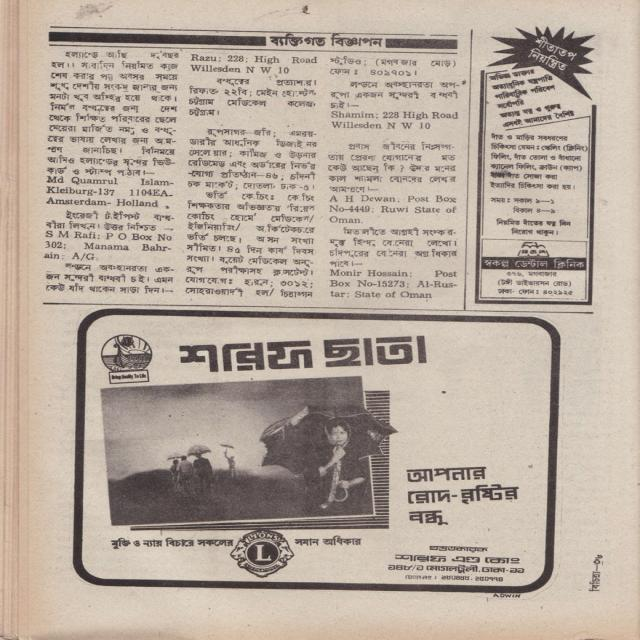advertisement: (70, 307, 563, 595), (473, 23, 599, 307)
page number: (590, 551, 606, 566)
paragraph: (43, 48, 183, 209), (183, 190, 318, 300), (325, 140, 459, 225), (327, 226, 461, 301), (186, 125, 319, 192), (41, 209, 176, 261), (328, 79, 463, 131), (188, 76, 318, 118), (41, 261, 176, 296), (189, 52, 321, 75), (326, 55, 458, 77)
text: (589, 569, 602, 592), (488, 592, 521, 600)
title: (269, 34, 384, 48)
